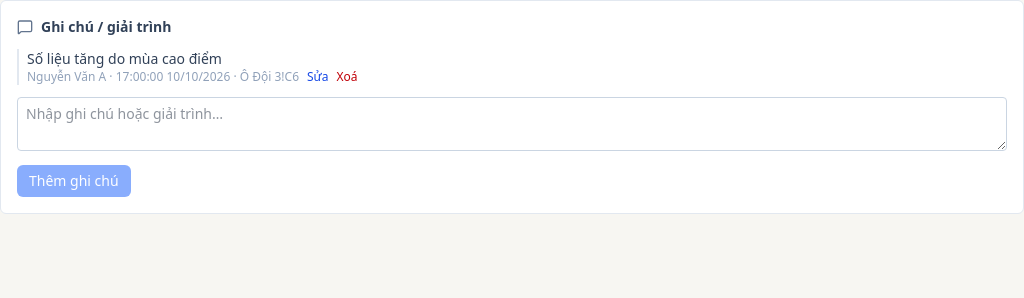
Test: CommentsPanel (S37, PR9 slice 2) › edit and delete (created => editable and deletable) › editing: opens the text, Lưu is disabled until it changes, then sends only the new text and reloads the list
Click the button with test id "btn-edit-comment-c1" at [318, 77], box [307,69,328,85]
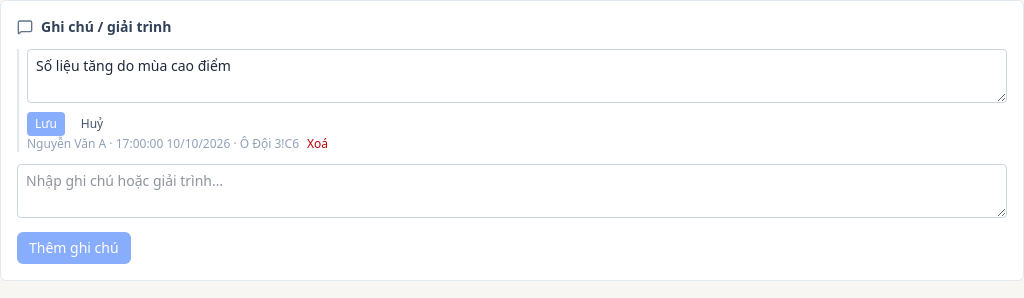
Expected: the text box with test id "comment-edit-input-c1" holds "Số liệu tăng do mùa cao điểm"
Expected: the button with test id "btn-save-comment-c1" is disabled, [27,112,65,136]
Replace the text in the text box with test id "comment-edit-input-c1" with "  Đã sửa  " at [517, 76], box [27,49,1007,103]
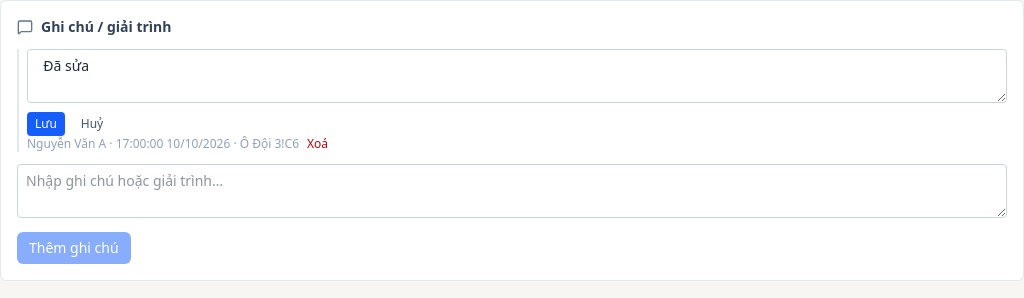
Click the button with test id "btn-save-comment-c1" at [46, 124], box [27,112,65,136]
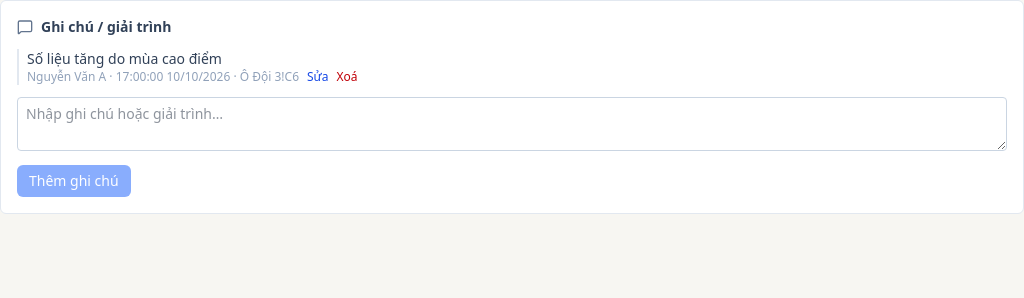
Expected: the text box with test id "comment-edit-input-c1" is gone
